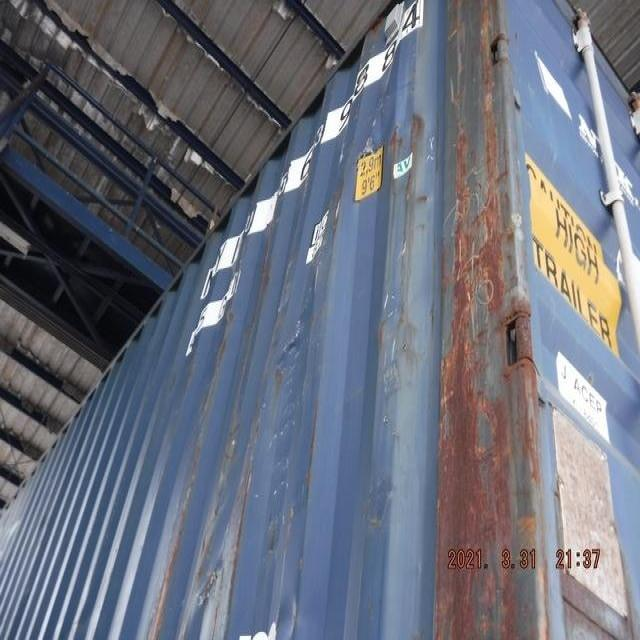dent: (260, 41, 418, 421), (176, 454, 254, 628)
